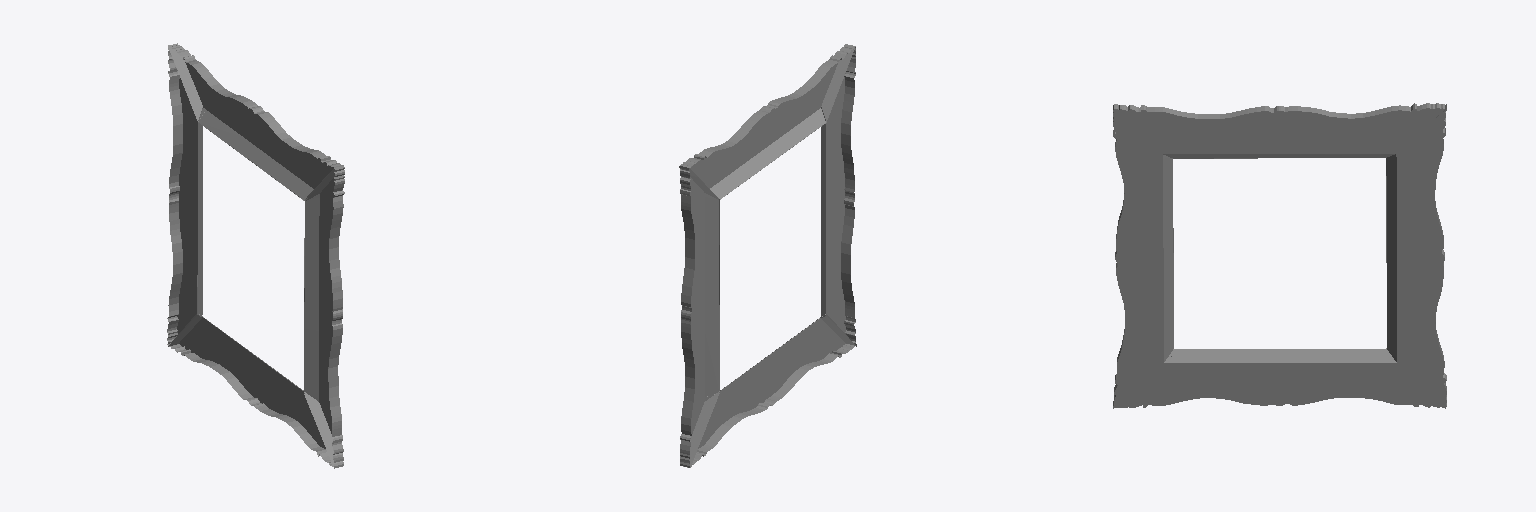
The model's file is bigframe1.obj.
3 renders of one model, left to right at view 1: azimuth 30°, elevation 25°; view 2: azimuth 150°, elevation 25°; view 3: azimuth 270°, elevation 25°, orthographic.
Visible parts, largest first — view 1: bigframe1_Mesh.002; view 2: bigframe1_Mesh.002; view 3: bigframe1_Mesh.002.
Boxes of the visible parts, <box> form: bigframe1_Mesh.002: <box>167,43,344,468</box>; bigframe1_Mesh.002: <box>679,44,856,467</box>; bigframe1_Mesh.002: <box>1113,103,1446,408</box>.
Size of the model in its own units: 0.1496 by 4.07 by 4.1.